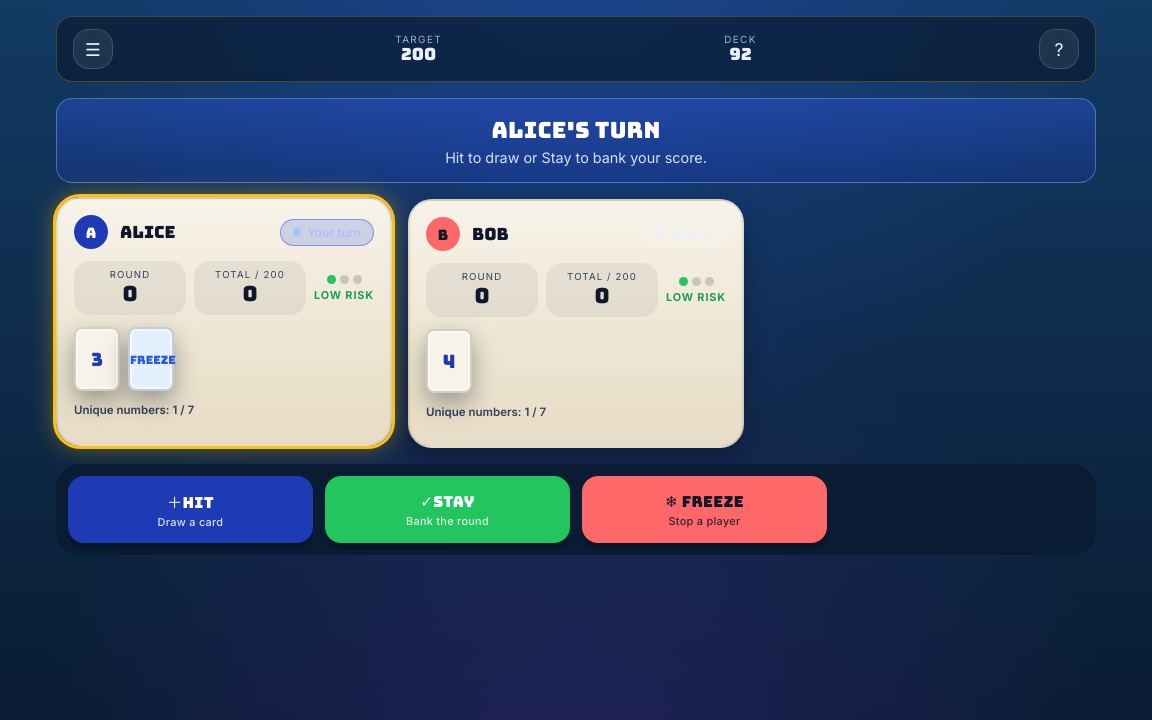
Test: Page guard-path coverage behavior › shows no legal target available guard when freeze is selected without active targets
This screenshot has width=1152, height=720.
Expected: the heading "Alice's turn" is shown, [492,115,661,145]
What coordinates should you click on to do the following:
click the button "❄ Freeze Stop a player"
I would click on:
 (704, 510)
Its box is [582,476,827,543].
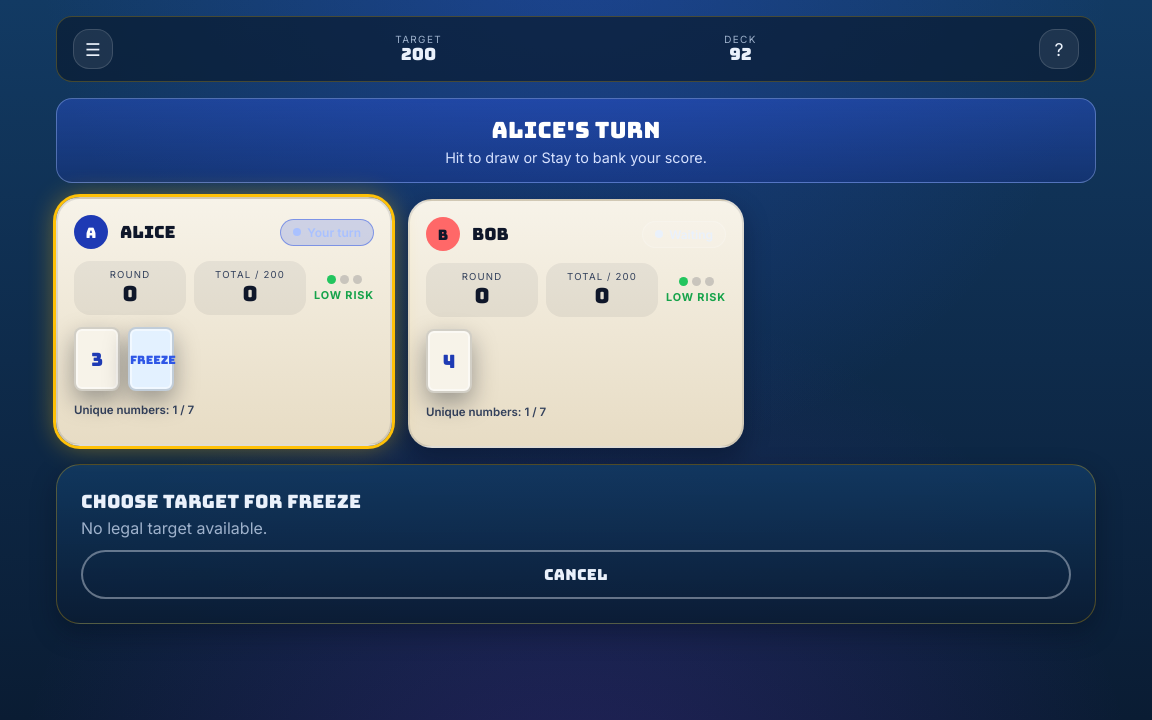
Expected: the text "No legal target available." is shown, [81,518,268,538]
